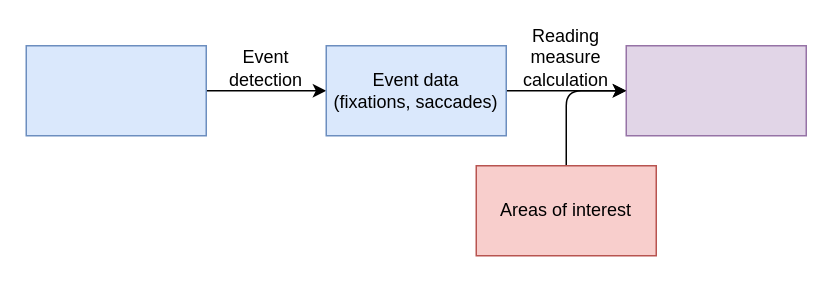
Image size: 833x282. Some labels were removed from this diagram. The shapes that lost their labels are listed below. From the top down, each one's box as (x1, y1, x2, y2) in pixels, then its label:
(25, 44, 206, 136): Raw data (samples)
(625, 44, 806, 136): Reading measures
